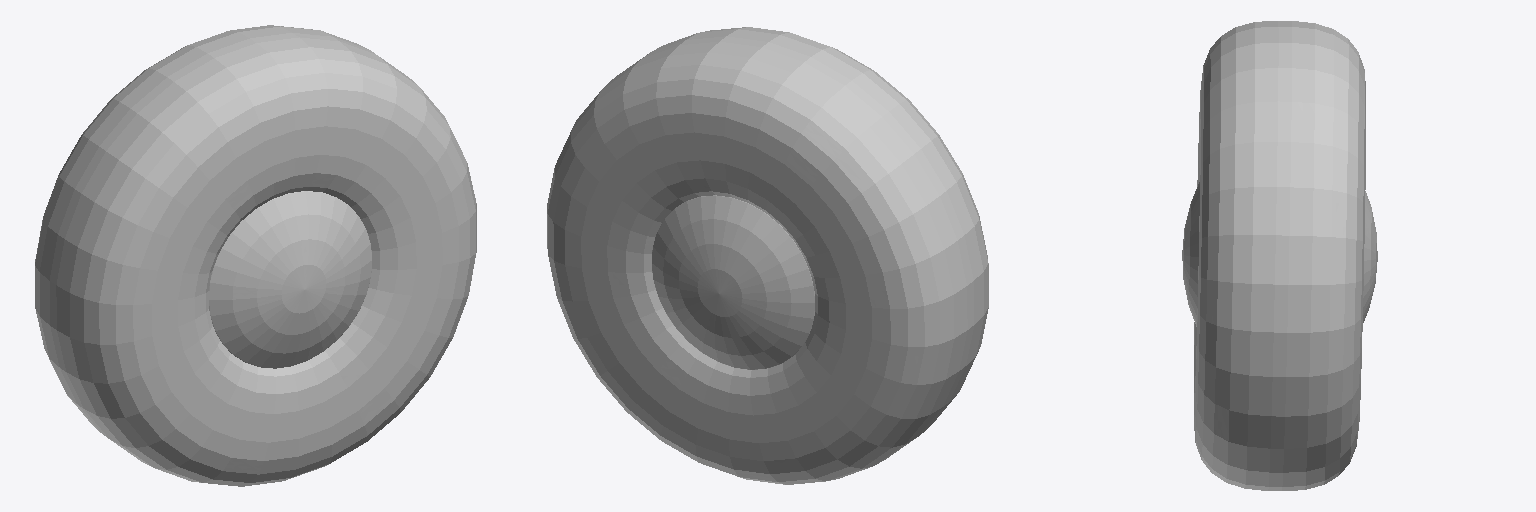
Rendered from Llanta_tra_izq.obj.
The picture shows the model from 3 angles: view 1: azimuth 30°, elevation 25°; view 2: azimuth 150°, elevation 25°; view 3: azimuth 270°, elevation 25°; orthographic projection.
Parts seen in each view (by area): view 1: police; view 2: police; view 3: police.
Boxes of the visible parts, x1=… form: police: x1=35, y1=25, x2=476, y2=486; police: x1=547, y1=27, x2=988, y2=484; police: x1=1182, y1=21, x2=1377, y2=490.
Size of the model in its own units: 24.68 by 24.82 by 10.31.